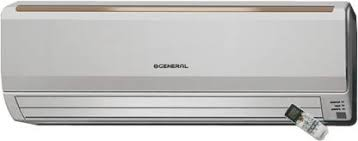ac: (1, 1, 358, 129)
